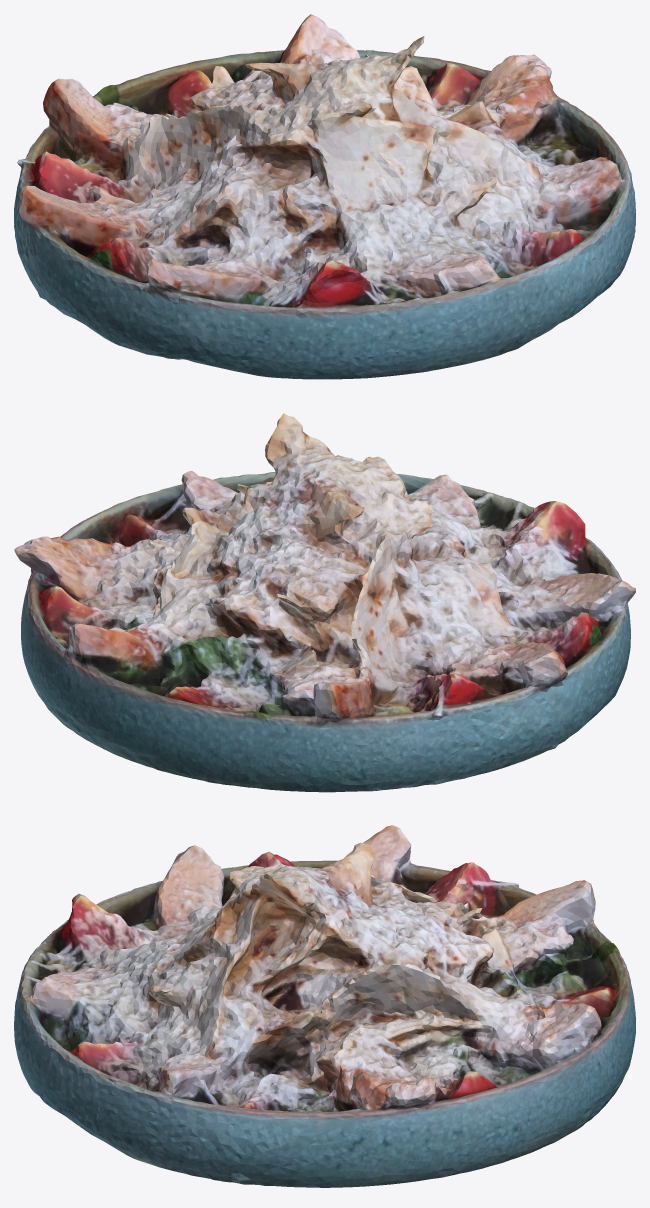
File: chicken salad 2 behine.glb
The picture shows the model from 3 angles, top to bottom: view 1: azimuth 30°, elevation 25°; view 2: azimuth 150°, elevation 25°; view 3: azimuth 270°, elevation 25°; orthographic projection. The views are drawn at different scales.
Visible parts, largest first — view 1: object 1; view 2: object 1; view 3: object 1.
Part boxes in pixels (bbox=[...]): object 1: bbox=[14, 14, 635, 379]; object 1: bbox=[14, 413, 635, 792]; object 1: bbox=[14, 825, 635, 1187].
Bounding box in the file's own units: 0.2025 × 0.08 × 0.1992.
Materials: 2 (1 with a texture image).
